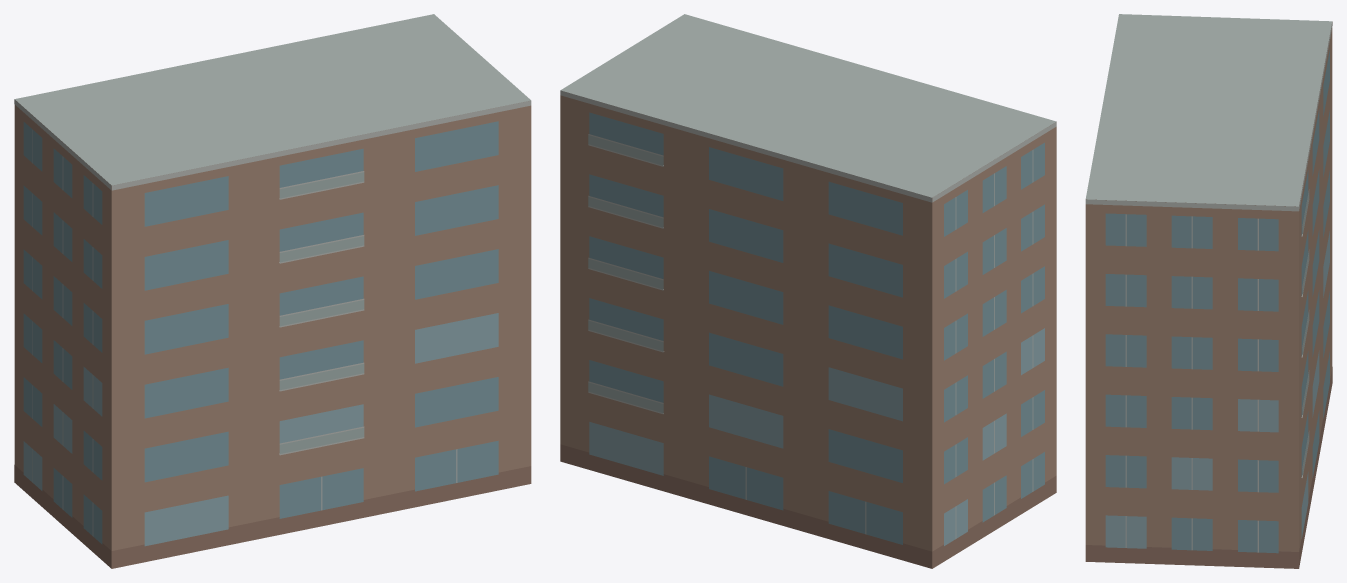
Rendered from survey-upis-32760930.glb.
3 renders of one model, left to right at view 1: azimuth 30°, elevation 25°; view 2: azimuth 150°, elevation 25°; view 3: azimuth 270°, elevation 25°, orthographic. The views are drawn at different scales.
Parts seen in each view (by area): view 1: survey-upis-32760930.tmp; view 2: survey-upis-32760930.tmp; view 3: survey-upis-32760930.tmp.
Part boxes in pixels (x1,y1,x2,y2): survey-upis-32760930.tmp: (14, 14, 531, 568); survey-upis-32760930.tmp: (560, 14, 1056, 568); survey-upis-32760930.tmp: (1085, 14, 1332, 568).
Size of the model in its own units: 20.87 by 18.3 by 11.31.
